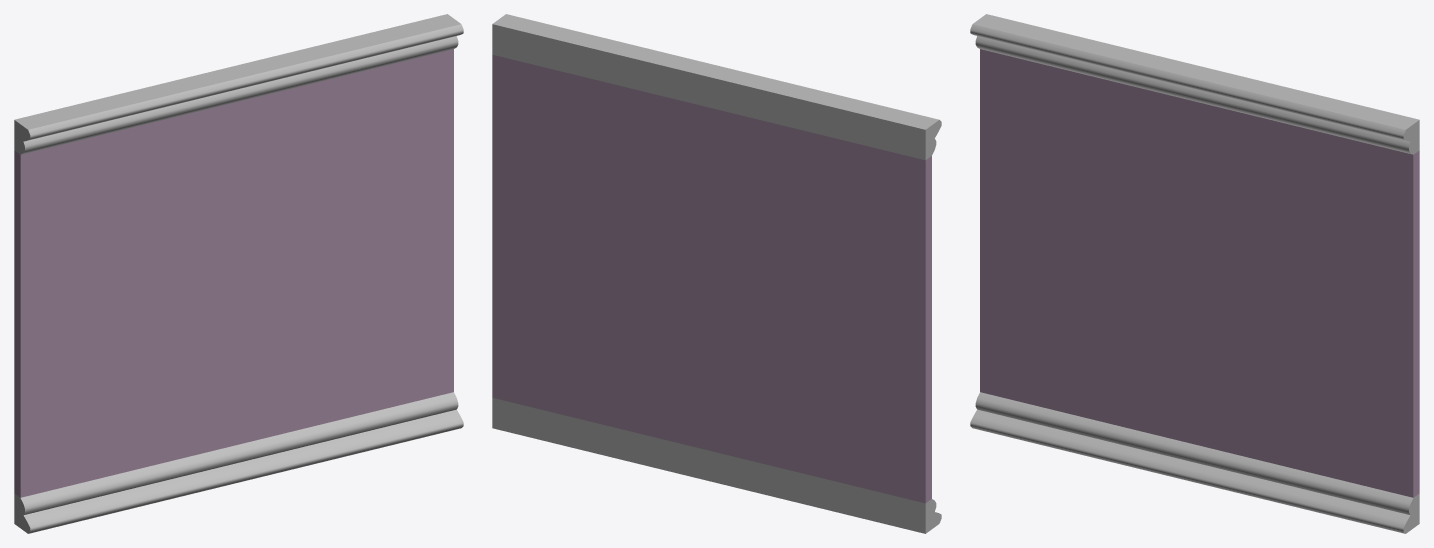
File: L3_wall.fbx
3 renders of one model, left to right at view 1: azimuth 30°, elevation 25°; view 2: azimuth 150°, elevation 25°; view 3: azimuth 330°, elevation 25°, orthographic.
Parts seen in each view (by area): view 1: L3_wall; view 2: L3_wall; view 3: L3_wall.
Boxes of the visible parts, x1,y1,x2,y2 form: L3_wall: [14, 14, 463, 533]; L3_wall: [492, 14, 941, 533]; L3_wall: [970, 14, 1419, 533].
Bounding box in the file's own units: 104 × 92.54 × 6.67.
